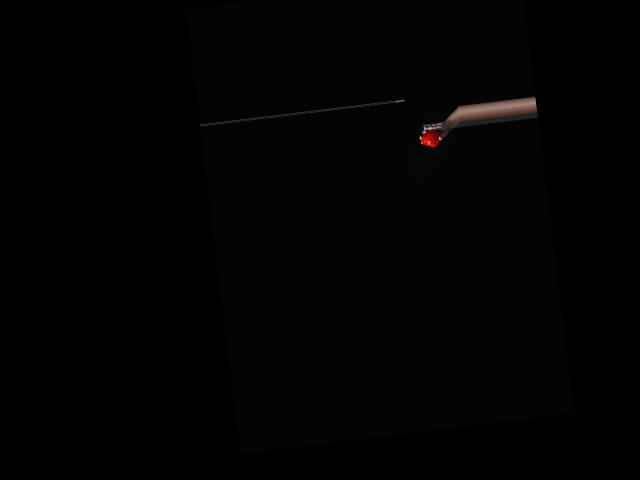tomato: (420, 129, 440, 148)
